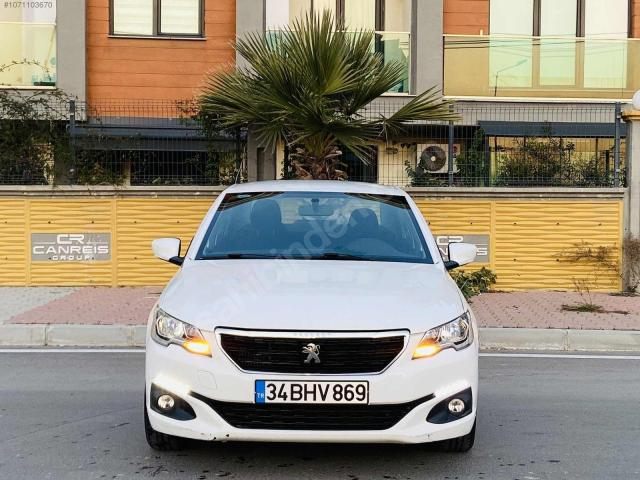plaka: (256, 381, 368, 404)
